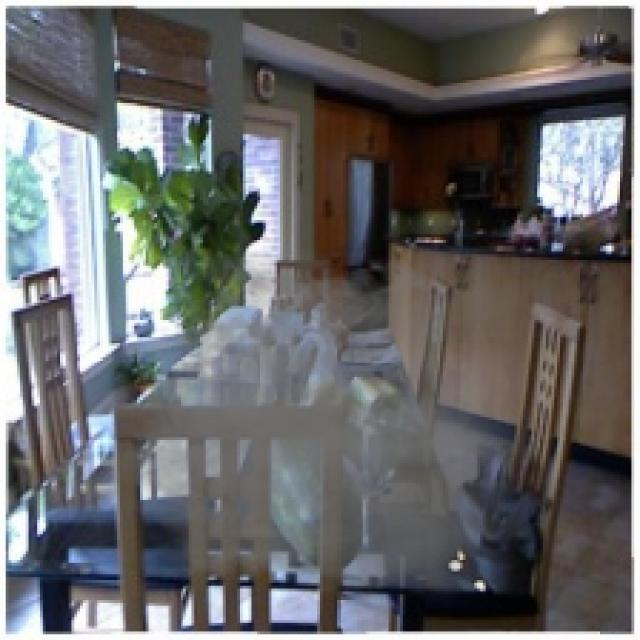Smoke: (102, 248, 528, 598)
